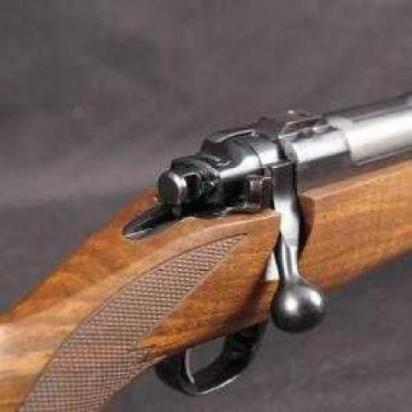Gun: (0, 85, 412, 412)
